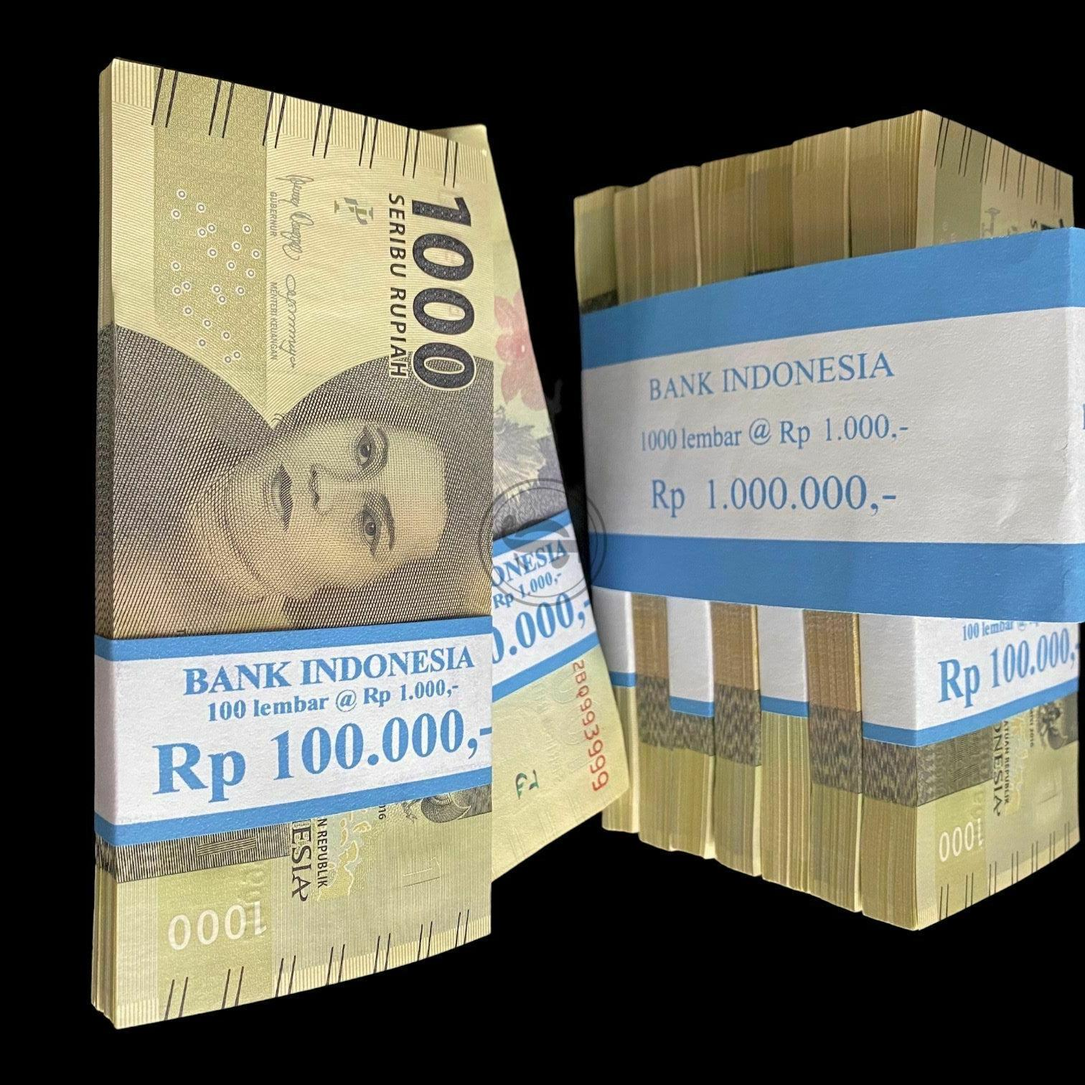1000IndonesianRupiah: (101, 53, 501, 1037)
